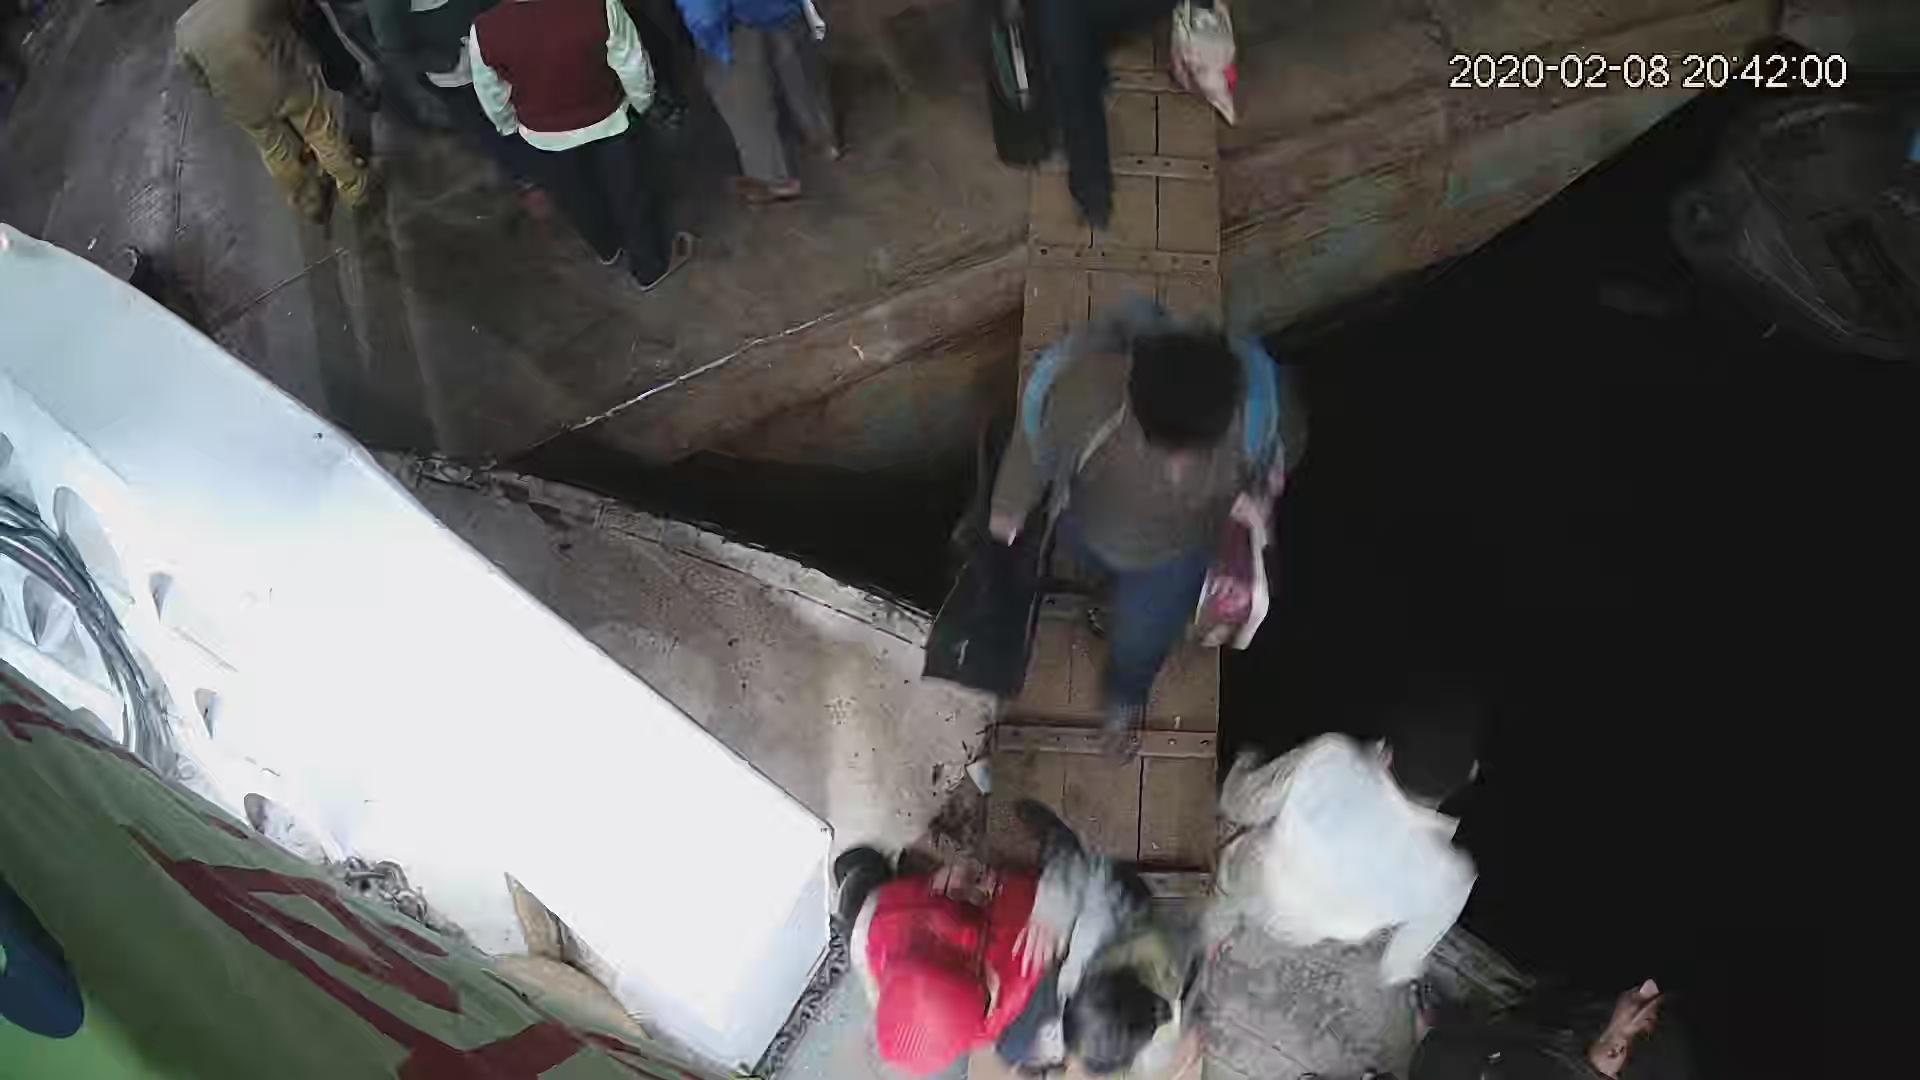person: (975, 291, 1313, 743), (1210, 690, 1488, 995), (458, 1, 690, 288), (833, 818, 1075, 1072), (167, 5, 385, 230)
